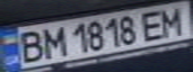1: (66, 20, 90, 53), (103, 15, 124, 47)
8: (118, 12, 142, 46), (84, 17, 106, 52)
B: (12, 28, 48, 63)
E: (136, 7, 169, 42)
M: (154, 4, 190, 37), (36, 24, 69, 58)
